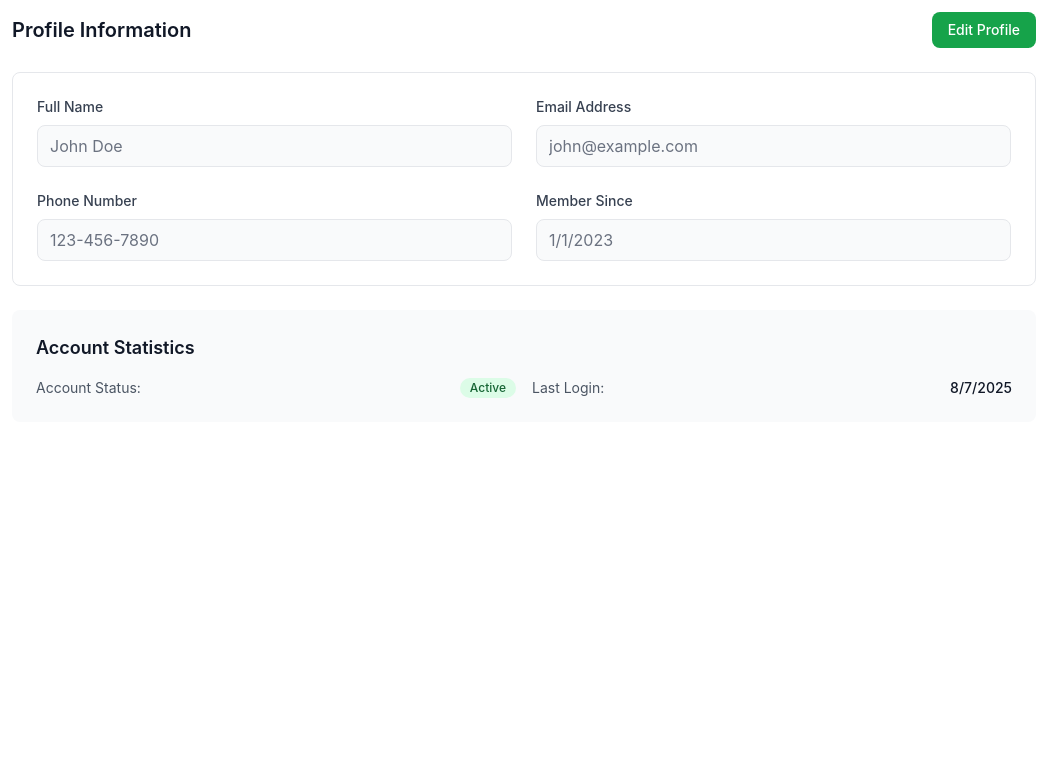
Test case: ProfileEdit › handles API errors during update
The image size is (1048, 780).
Click the button "Edit Profile".
click(984, 30)  # box [932,12,1036,48]
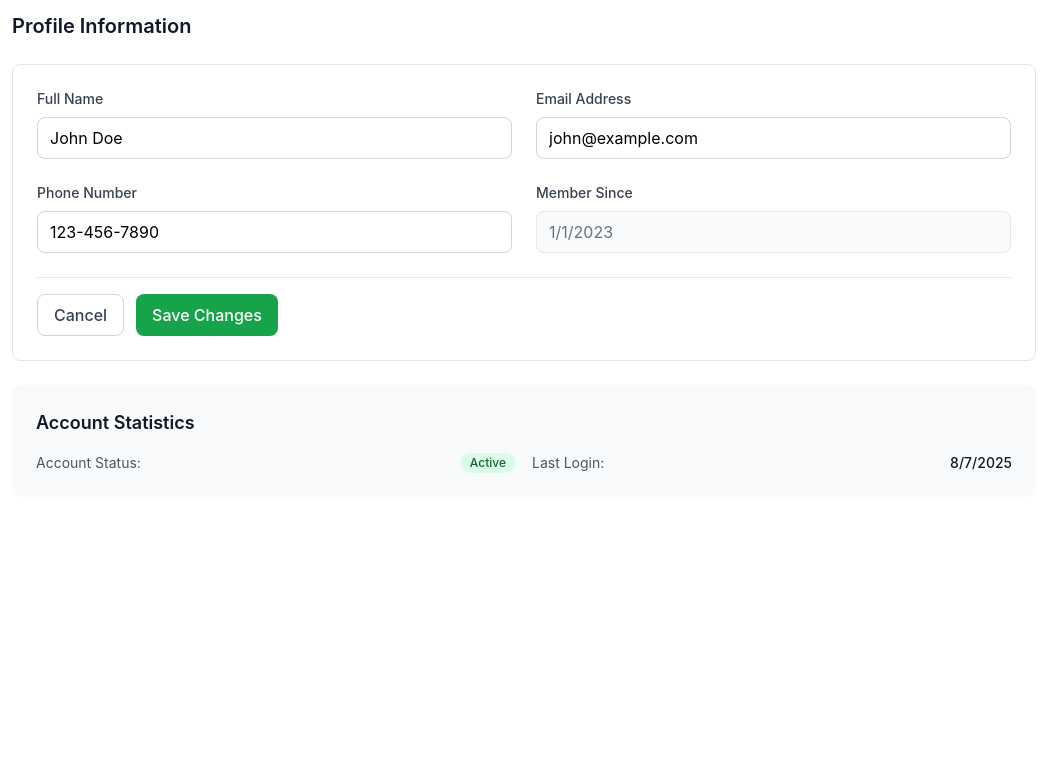
Click the button "Save Changes".
click(207, 315)  # box [136,294,278,336]
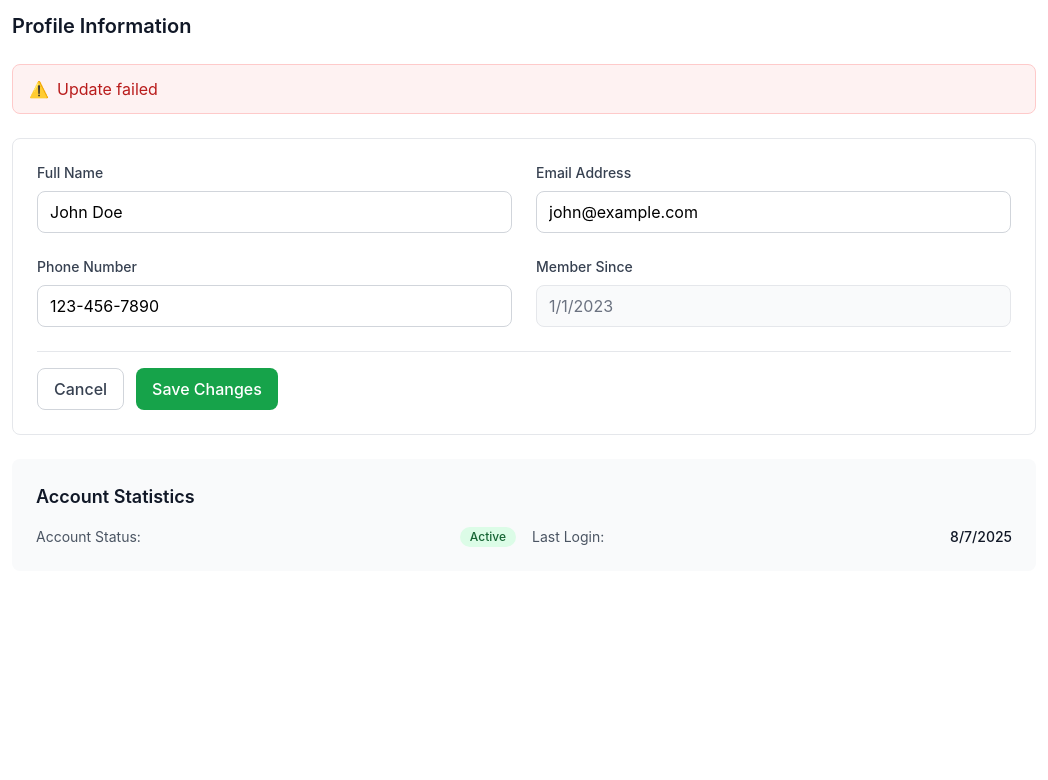
Now the text "Update failed" is shown, box [57,77,158,101]
